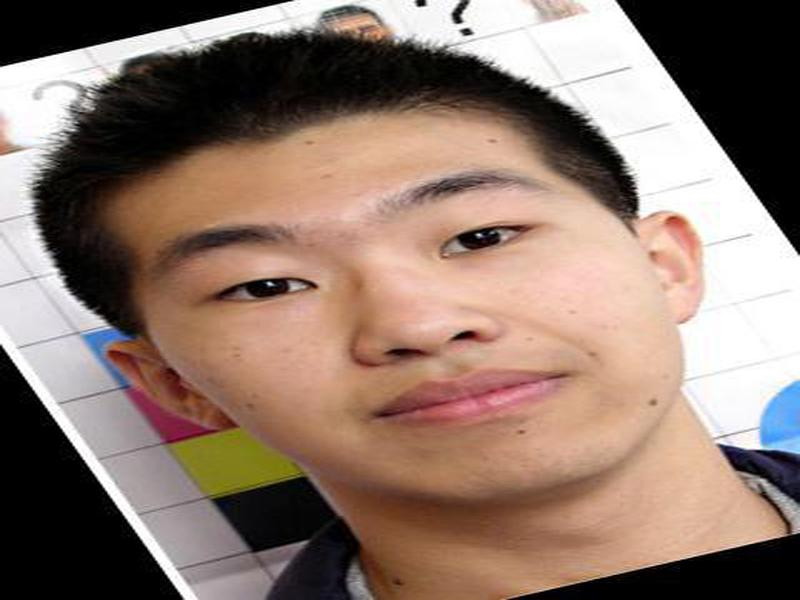without_mask: (104, 140, 687, 484)
